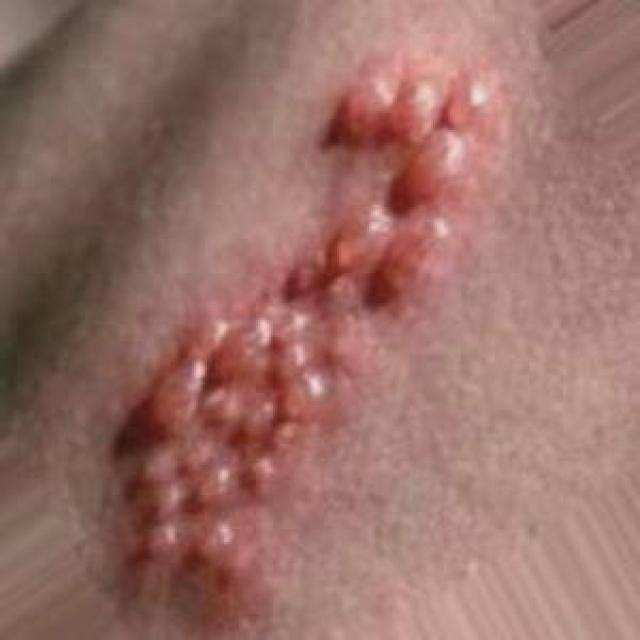Shingles: (125, 65, 501, 580)
